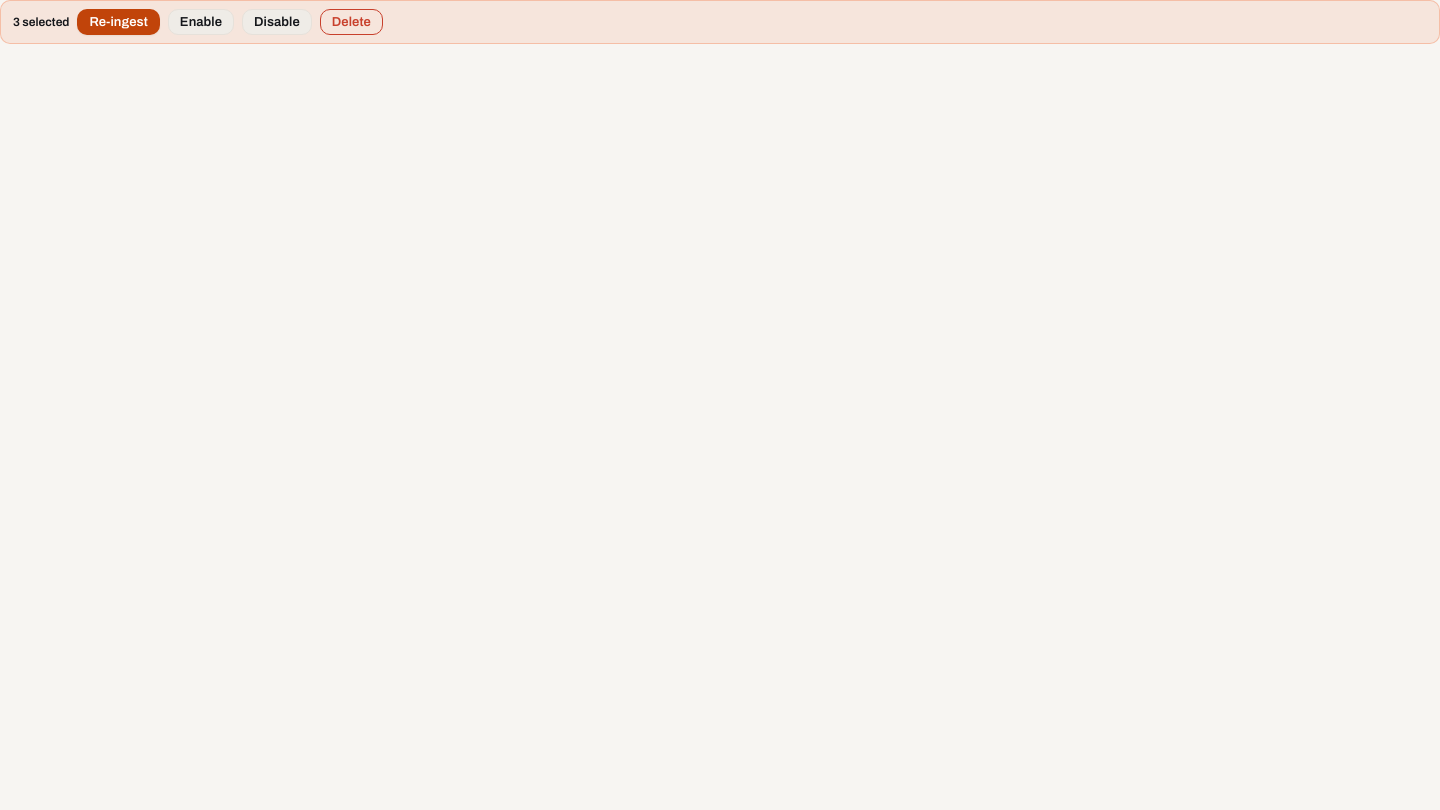
BulkActionBar — bulk re-ingest result toast › says nothing about skipped_in_flight when none were skipped
Step 1. Click the button "Re-ingest" → (119, 22), box [78,9,160,35]
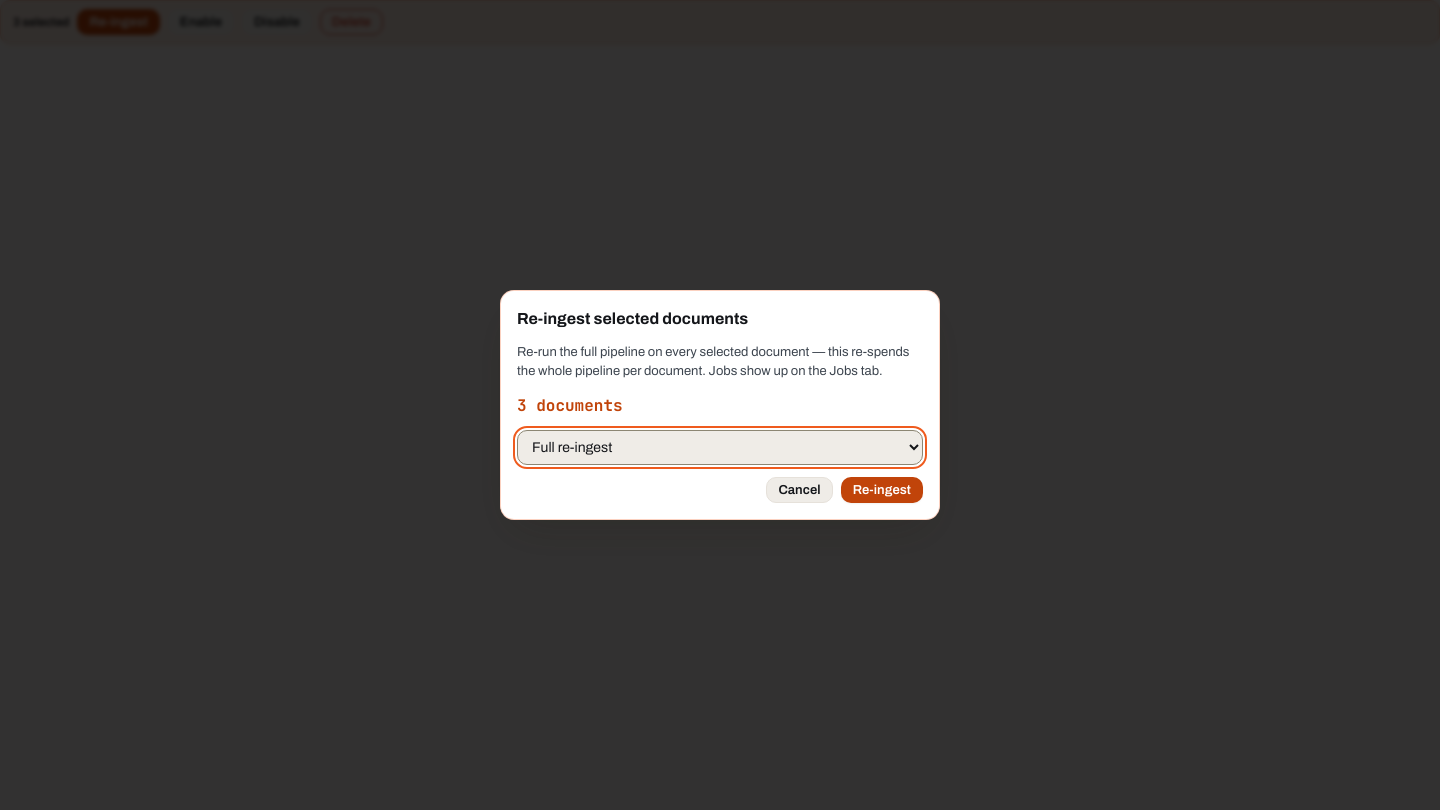
Step 2. Click the button "Re-ingest" → (882, 490), box [841,477,923,503]
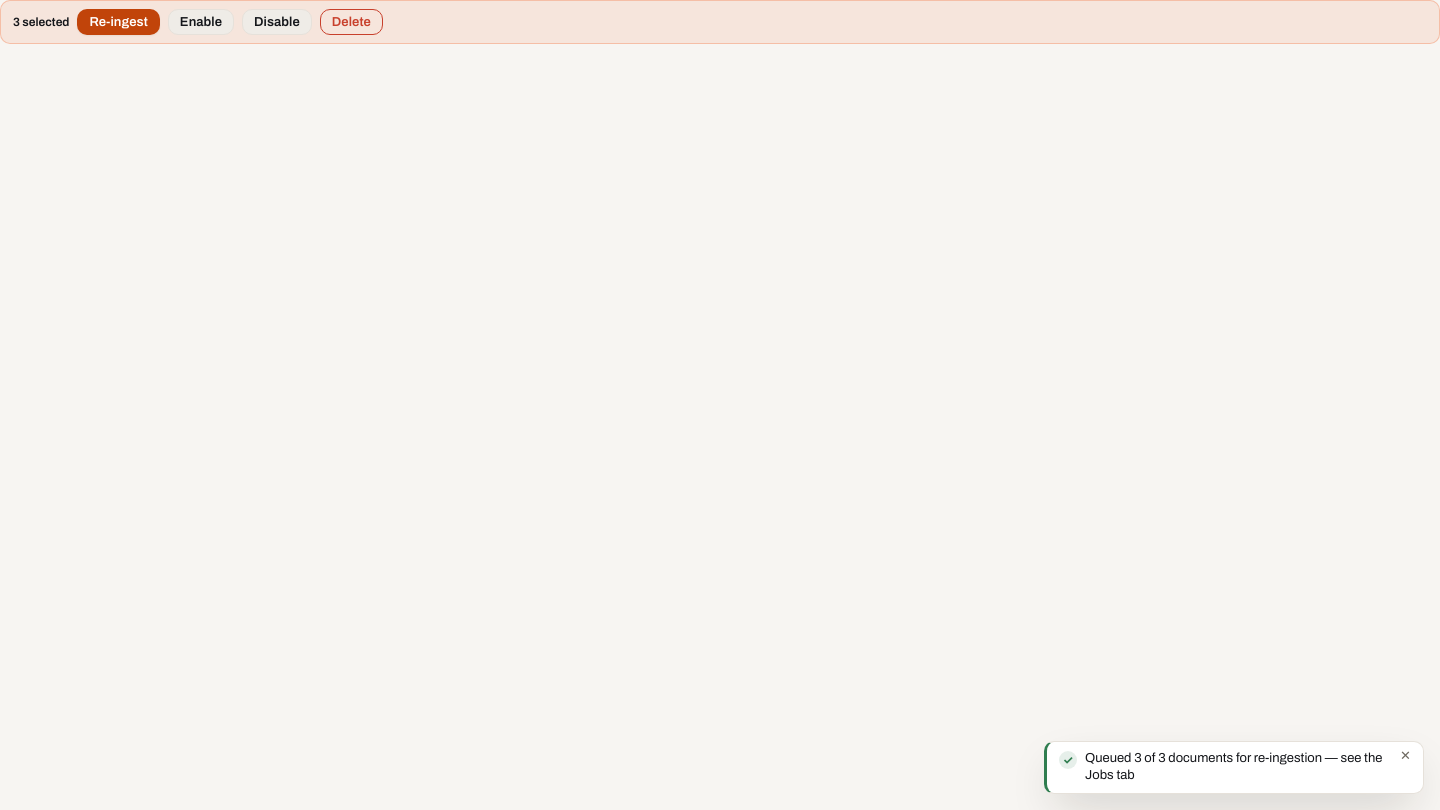
expect the text "Queued 3 of 3 documents for re-ingestion — see the Jobs tab" is shown: met, box [1085,750,1392,785]
